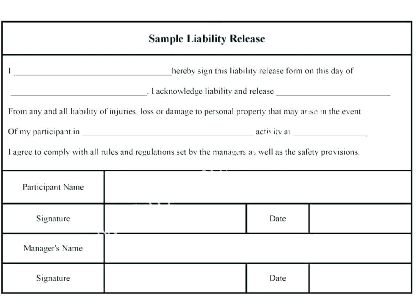textbox: (102, 169, 414, 207), (102, 231, 414, 266), (102, 201, 248, 236), (103, 262, 249, 297), (307, 261, 415, 297), (307, 202, 414, 236)
textline: (81, 126, 256, 138), (7, 85, 149, 98), (10, 66, 174, 77), (275, 86, 392, 98), (291, 126, 370, 138)
